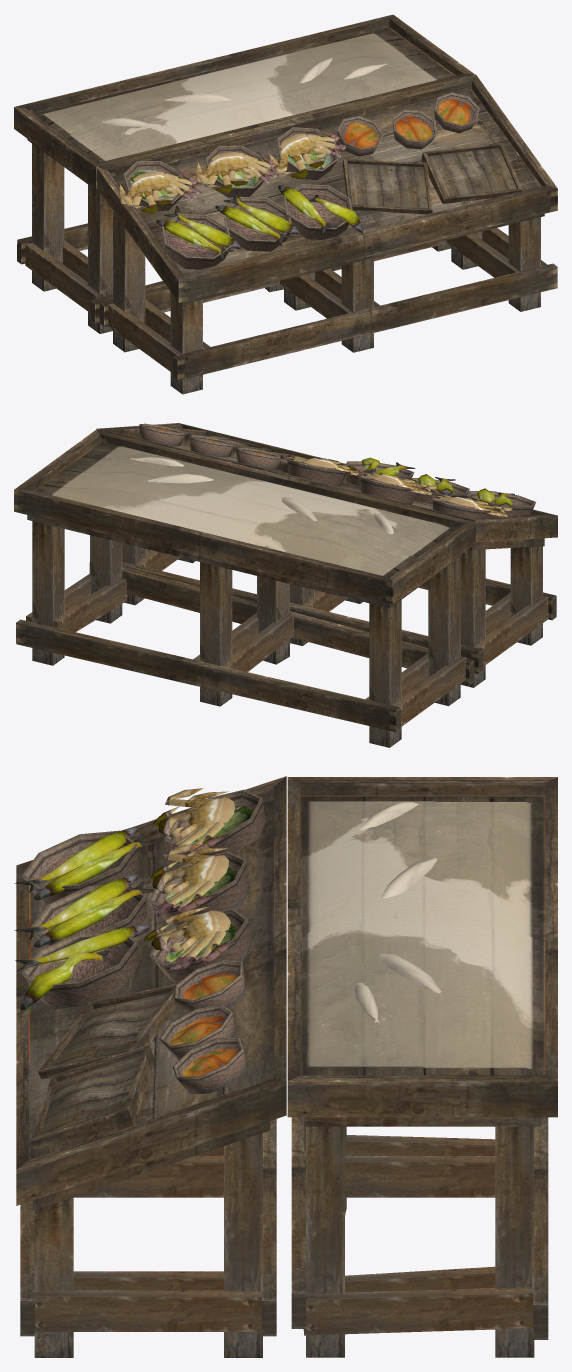
The model's file is shop1.fbx.
The picture shows the model from 3 angles, top to bottom: view 1: azimuth 30°, elevation 25°; view 2: azimuth 150°, elevation 25°; view 3: azimuth 270°, elevation 25°; orthographic projection. The views are drawn at different scales.
Visible parts, largest first — view 1: LV_M5_Port_FishingMarket02_SM_KHJ; view 2: LV_M5_Port_FishingMarket02_SM_KHJ; view 3: LV_M5_Port_FishingMarket02_SM_KHJ.
Boxes of the visible parts, x1,y1,x2,y2 form: LV_M5_Port_FishingMarket02_SM_KHJ: (14,14,557,394); LV_M5_Port_FishingMarket02_SM_KHJ: (14,423,557,747); LV_M5_Port_FishingMarket02_SM_KHJ: (14,776,557,1357).
Bounding box in the file's own units: 0.4499 × 0.2077 × 0.3354.
1 material, 1 textured.
